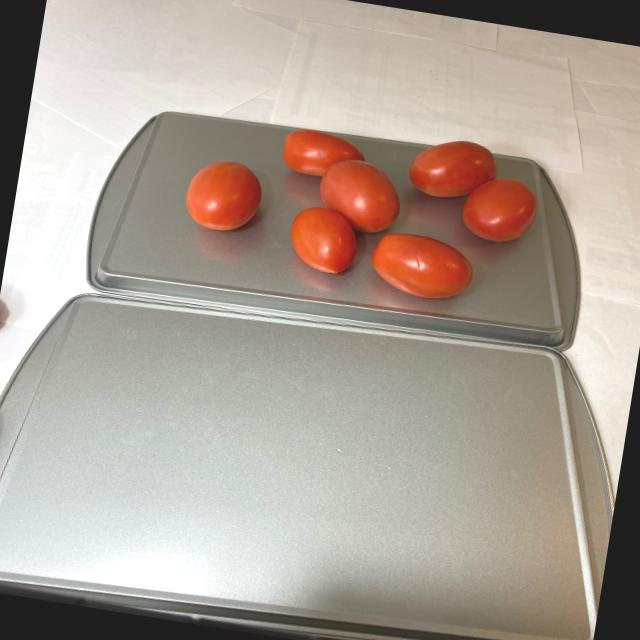tomato: (165, 97, 552, 320)
